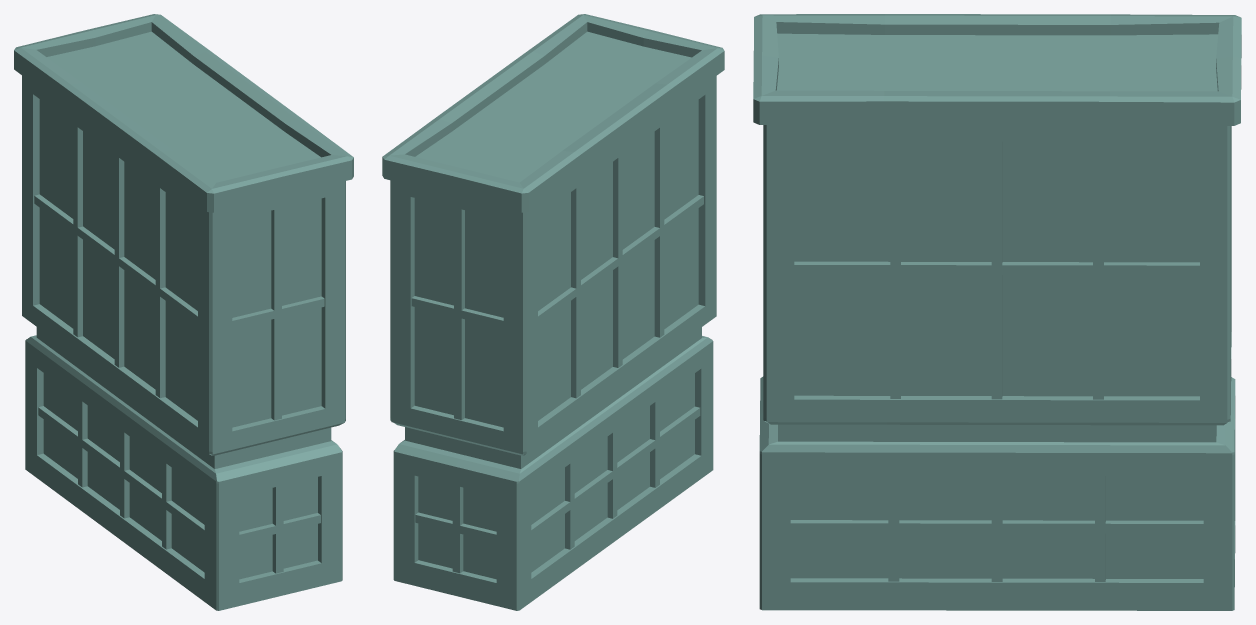
The model's file is building 2.fbx.
3 views of the same model, side by side, from view 1: azimuth 30°, elevation 25°; view 2: azimuth 150°, elevation 25°; view 3: azimuth 270°, elevation 25° (orthographic). The views are drawn at different scales.
Visible parts, largest first — view 1: building 2; view 2: building 2; view 3: building 2.
Boxes of the visible parts, bbox=[...] form: building 2: bbox=[14, 14, 353, 610]; building 2: bbox=[382, 14, 724, 610]; building 2: bbox=[753, 14, 1241, 610].
Size of the model in its own units: 1514 by 4131 by 3537.
